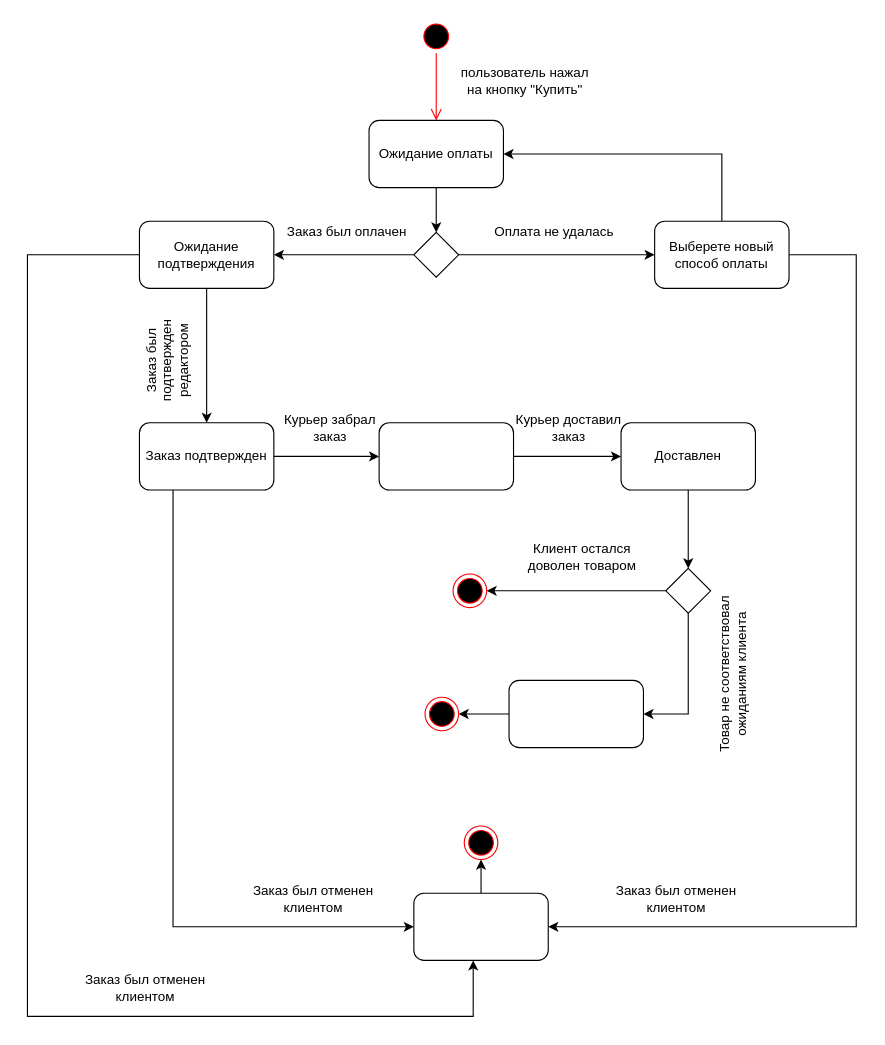
Image size: 885x1045. Some labels were removed from this diagram. The centre of each missing label's shape, as x and y in pixels:
"Возврат товара" goes at pixel 575 713.
"Отмена заказа" goes at pixel 480 926.
"Передан в службу доставки" goes at pixel 446 456.
